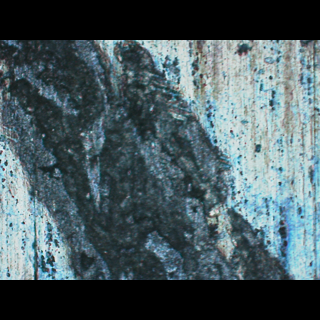d: (0, 40, 304, 279)
